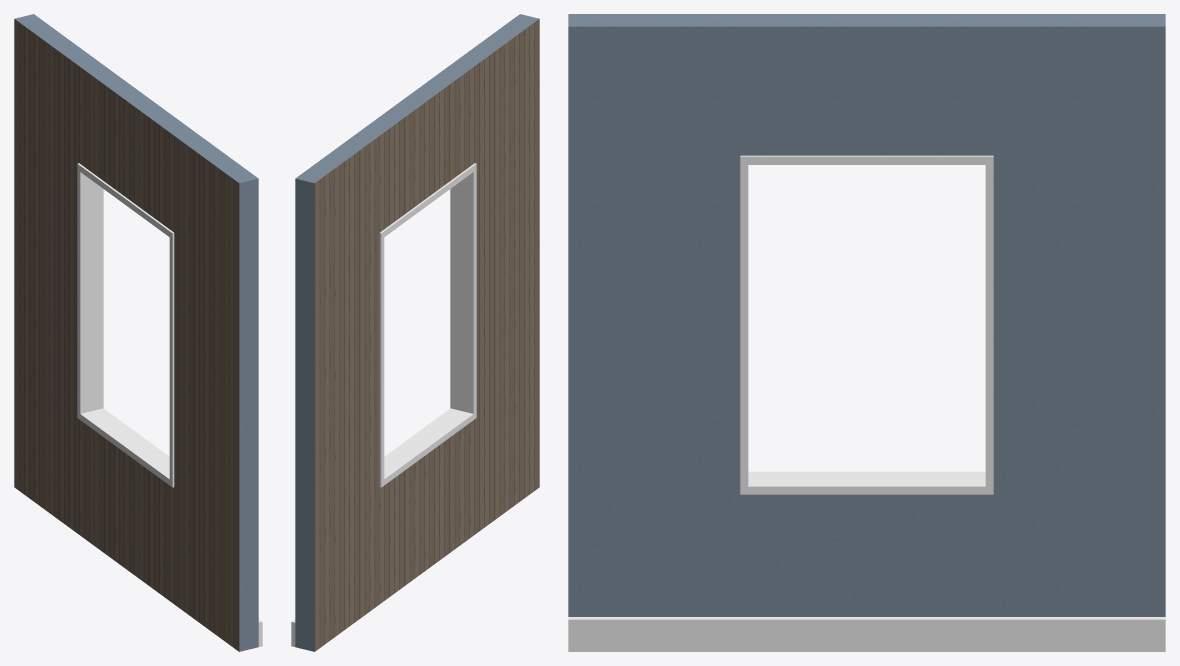
The model's file is SM_Bld_House_Wall_Window_01.obj.
3 renders of one model, left to right at view 1: azimuth 30°, elevation 25°; view 2: azimuth 150°, elevation 25°; view 3: azimuth 270°, elevation 25°, orthographic. The views are drawn at different scales.
Visible parts, largest first — view 1: SM_Bld_House_Wall_Window_01_mi_HouseExteriorWalls_01, SM_Bld_House_Wall_Window_01_mi_HouseInteriorWalls_02, SM_Bld_House_Wall_Window_01_mi_WhiteTrim; view 2: SM_Bld_House_Wall_Window_01_mi_HouseExteriorWalls_01, SM_Bld_House_Wall_Window_01_mi_HouseInteriorWalls_02, SM_Bld_House_Wall_Window_01_mi_WhiteTrim; view 3: SM_Bld_House_Wall_Window_01_mi_HouseInteriorWalls_02, SM_Bld_House_Wall_Window_01_mi_WhiteTrim.
Part boxes in pixels (x1=…): SM_Bld_House_Wall_Window_01_mi_HouseExteriorWalls_01: x1=14, y1=19, x2=239, y2=651; SM_Bld_House_Wall_Window_01_mi_HouseInteriorWalls_02: x1=15, y1=14, x2=258, y2=651; SM_Bld_House_Wall_Window_01_mi_WhiteTrim: x1=77, y1=163, x2=262, y2=646; SM_Bld_House_Wall_Window_01_mi_HouseExteriorWalls_01: x1=314, y1=19, x2=539, y2=651; SM_Bld_House_Wall_Window_01_mi_HouseInteriorWalls_02: x1=295, y1=14, x2=538, y2=651; SM_Bld_House_Wall_Window_01_mi_WhiteTrim: x1=291, y1=163, x2=476, y2=646; SM_Bld_House_Wall_Window_01_mi_HouseInteriorWalls_02: x1=568, y1=14, x2=1165, y2=616; SM_Bld_House_Wall_Window_01_mi_WhiteTrim: x1=568, y1=155, x2=1165, y2=651.
Bounding box in the file's own units: 0.3242 × 5.75 × 5.
3 materials, 2 textured.
